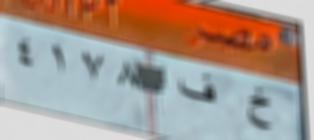1: (42, 41, 75, 84)
4: (13, 35, 38, 78)
7: (80, 48, 110, 90)
8: (114, 59, 136, 97)
faa: (177, 68, 220, 122)
khaa: (242, 82, 276, 138)
